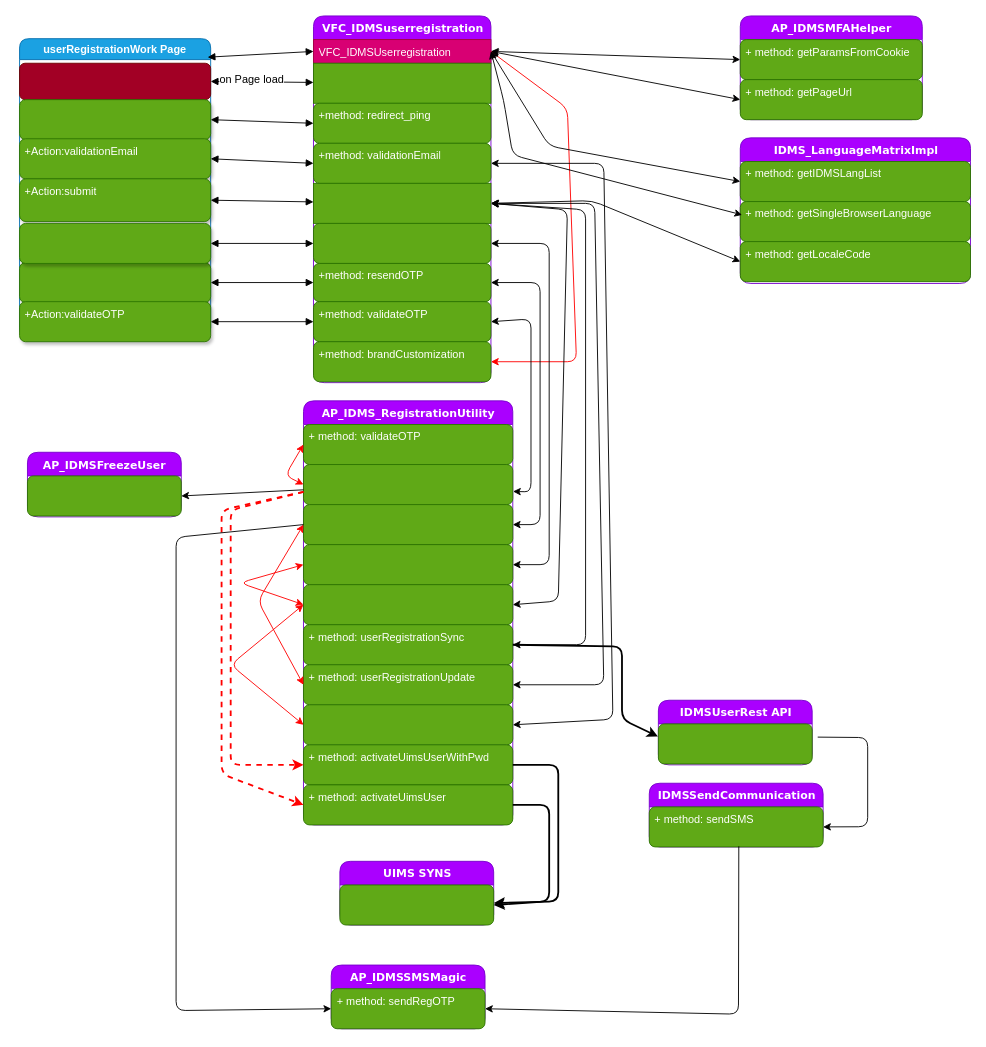
This 986x1047 diagram has some shape labels left out. Each missing label, with the centre of its shape:
+ method: doPost: the point at 734,743
+ method: pageError: the point at 402,82
+ method: resendOTP: the point at 408,524
+ method: unFreezeUser: the point at 104,495
+ method: validateEmail: the point at 408,724
+ method: validateFormData: the point at 408,604
+ method: validateOTPAndActivate: the point at 408,484
+ method: validationMobile: the point at 408,564
+Action: pageError: the point at 115,81
+Action:redirect_ping: the point at 115,120
+Action:resendOTP: the point at 115,283
+Action:validationMobile: the point at 115,244
+method: submit: the point at 402,202
+method: validationMobile: the point at 402,242
UIMS Sync SOAP API: the point at 416,904
